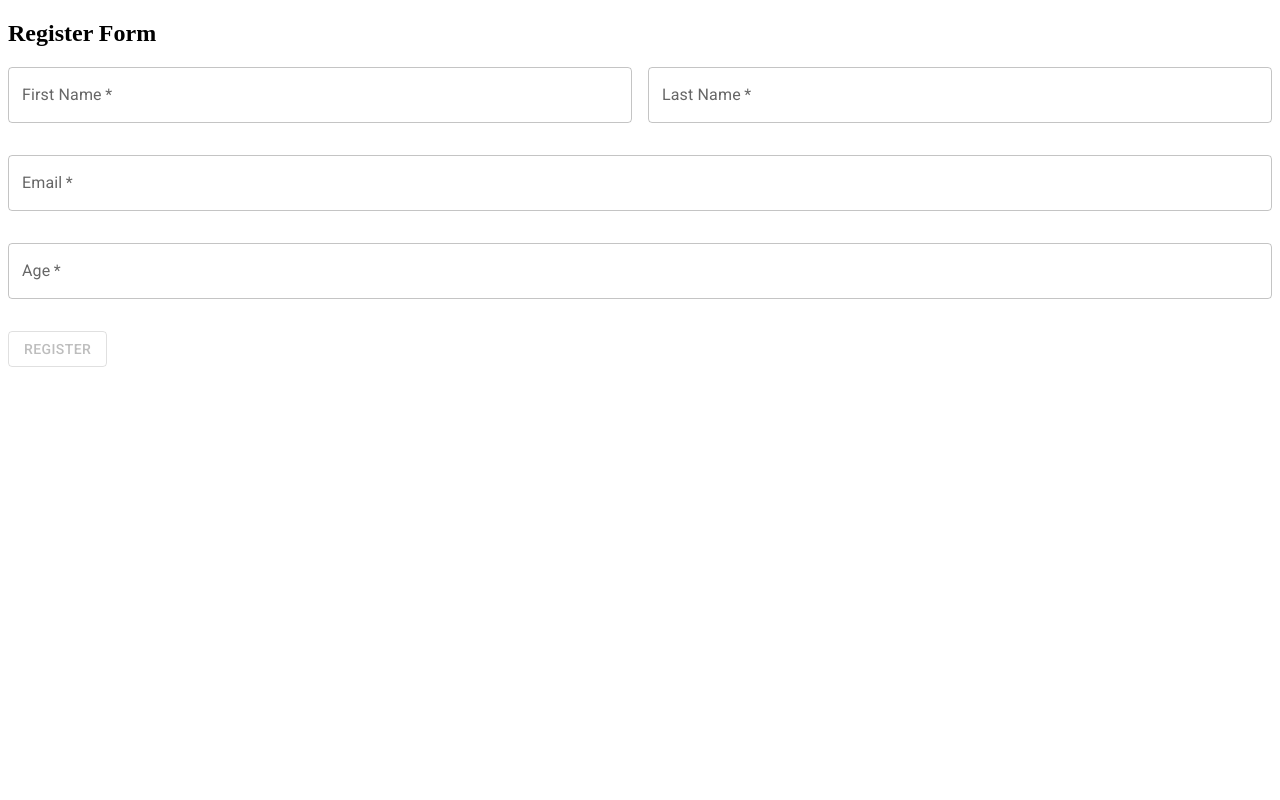
Test: RegisterForm component › should enable submit button once fields have values
The width and height of the screenshot is (1280, 800).
Expected: the button "Register" is disabled, [8,331,107,367]
Type "My name" into the field labelled "First Name *". click: (320,95)
box: [8,67,632,123]
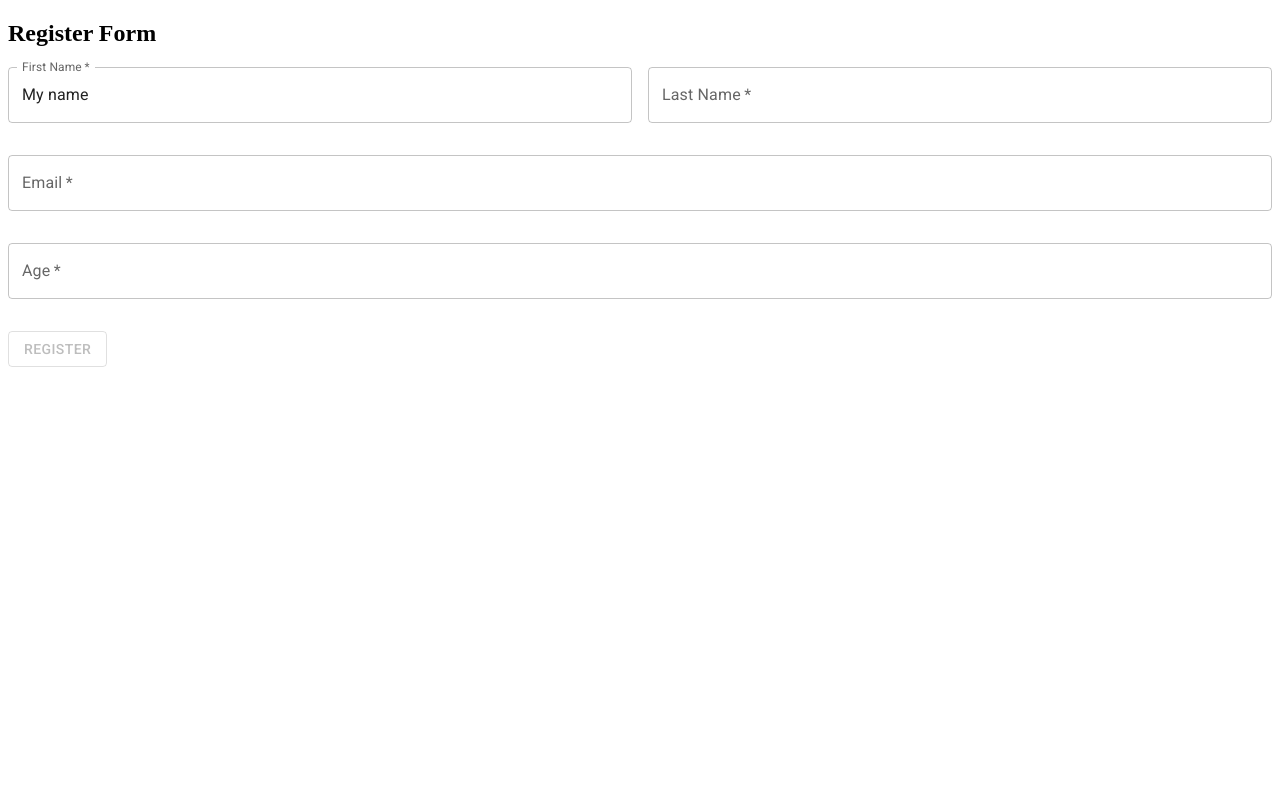
Type "My last name" into the field labelled "Last Name *". click: (960,95)
box: [648,67,1272,123]
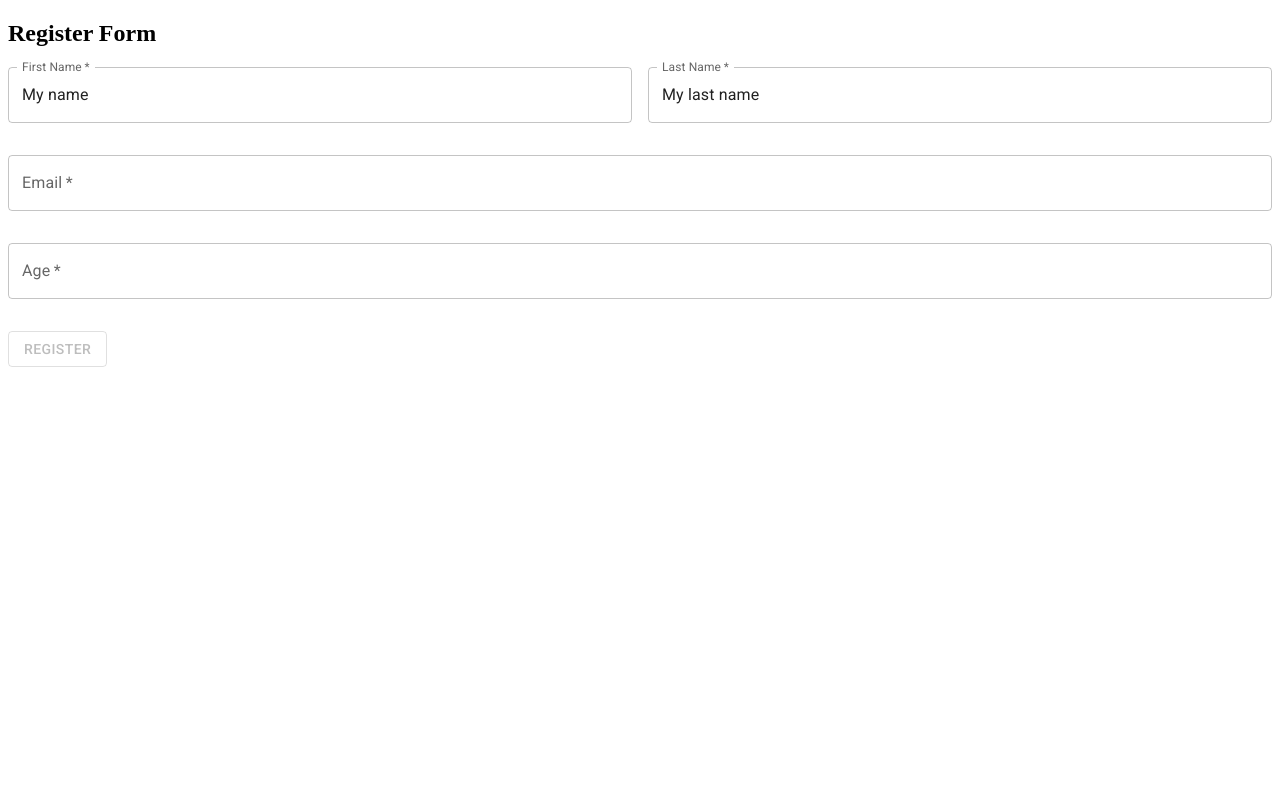
Type "email@domain.com" into the field labelled "Email *". click: (640,183)
box: [8,155,1272,211]
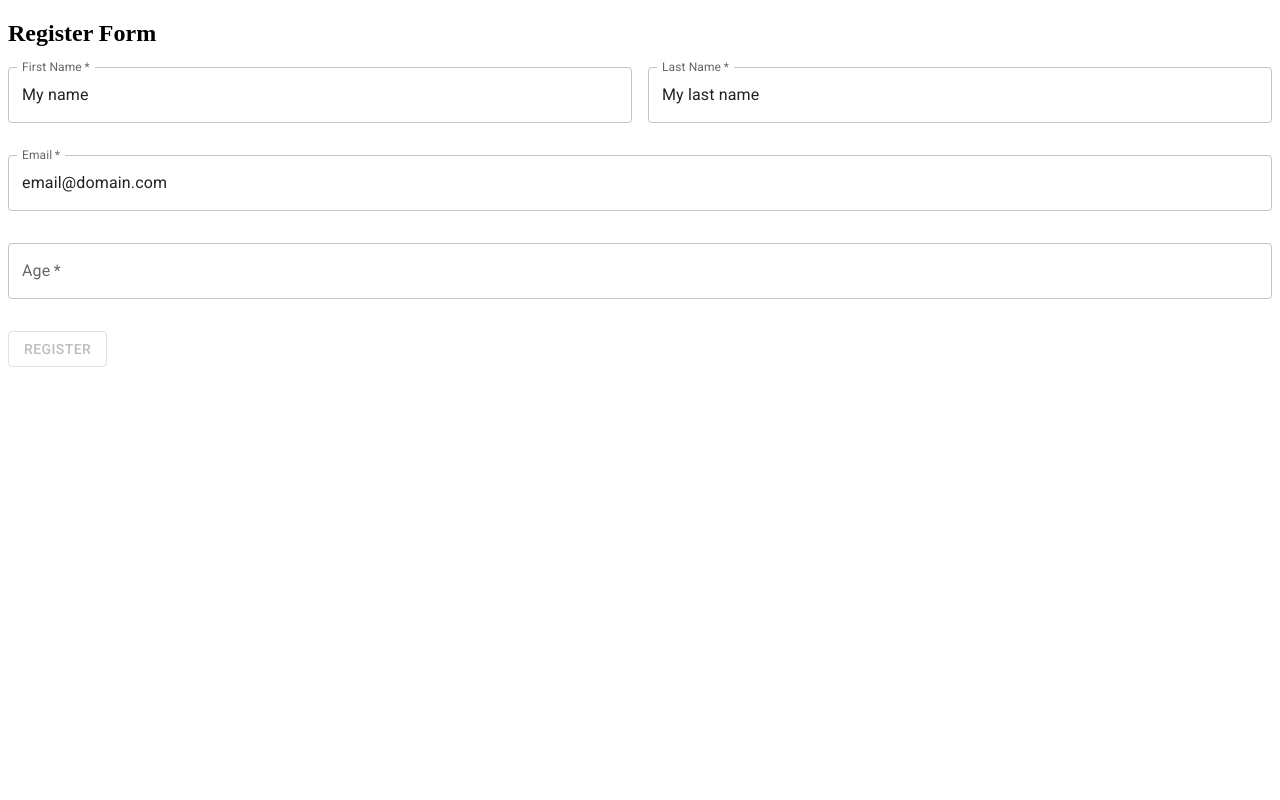
Type "42" into the number field labelled "Age *". click: (640,271)
box: [8,243,1272,299]
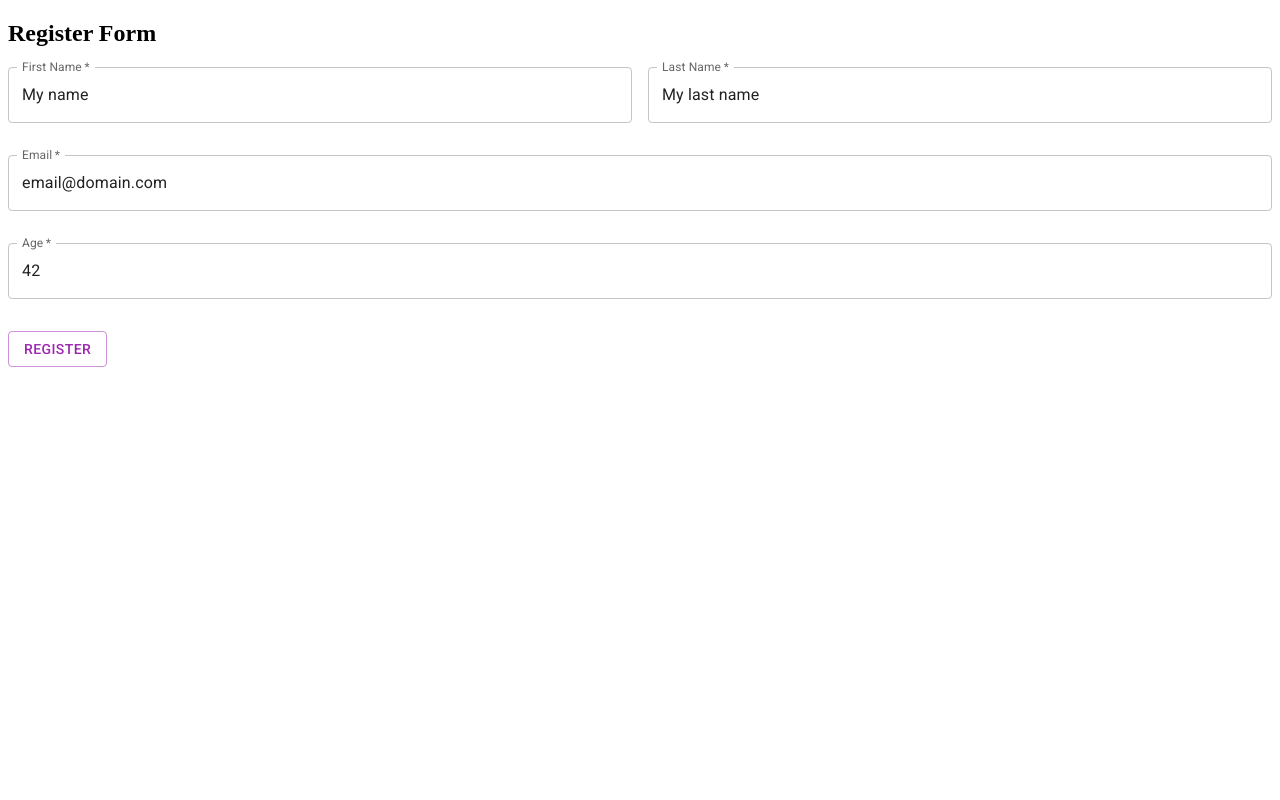
Result: the button "Register" is enabled
Click the button "Register". click: (58,349)
box: [8,331,107,367]
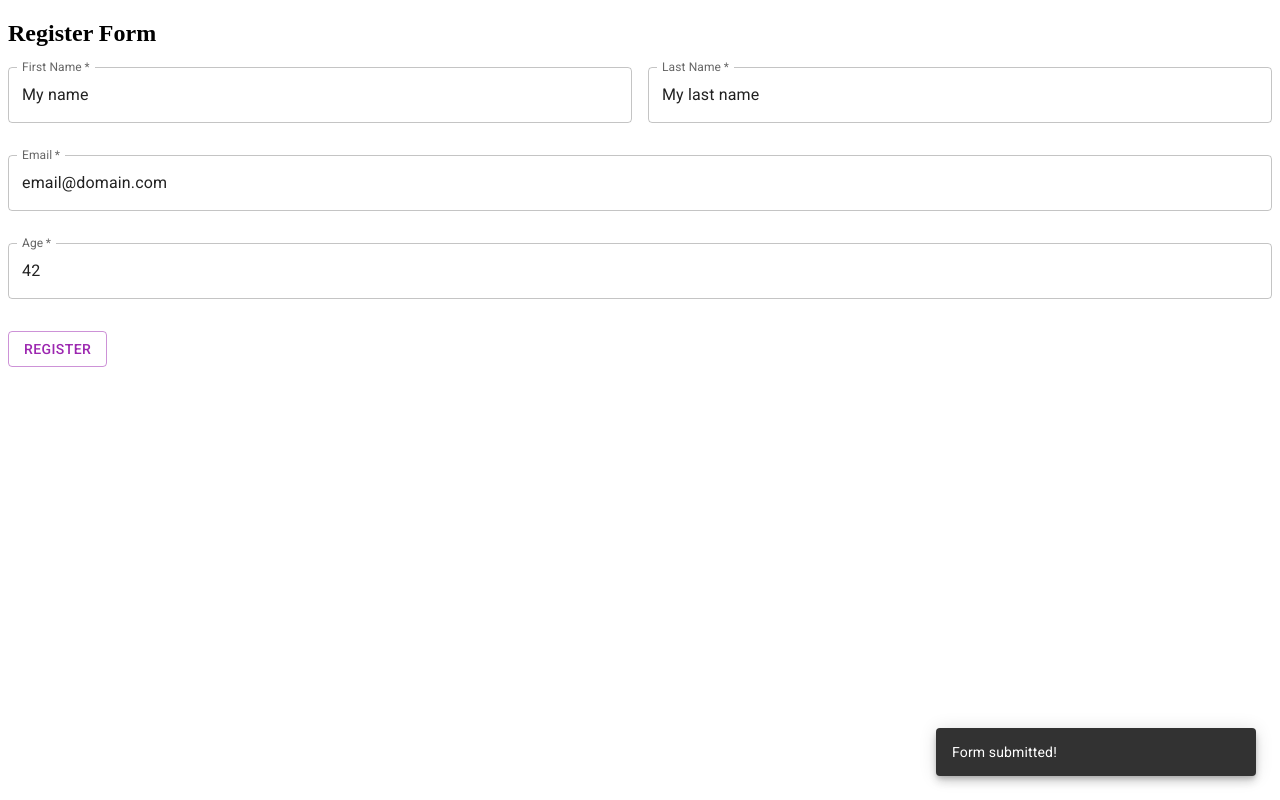
Result: the text "Form submitted!" is shown at [952,744,1057,760]
